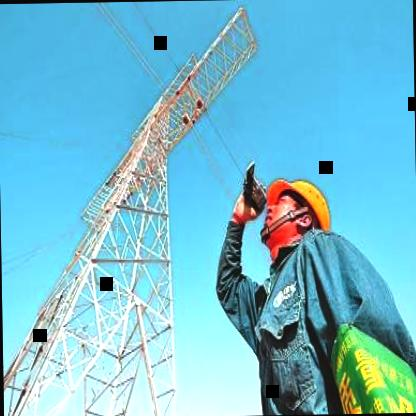helmet: (260, 173, 335, 252)
